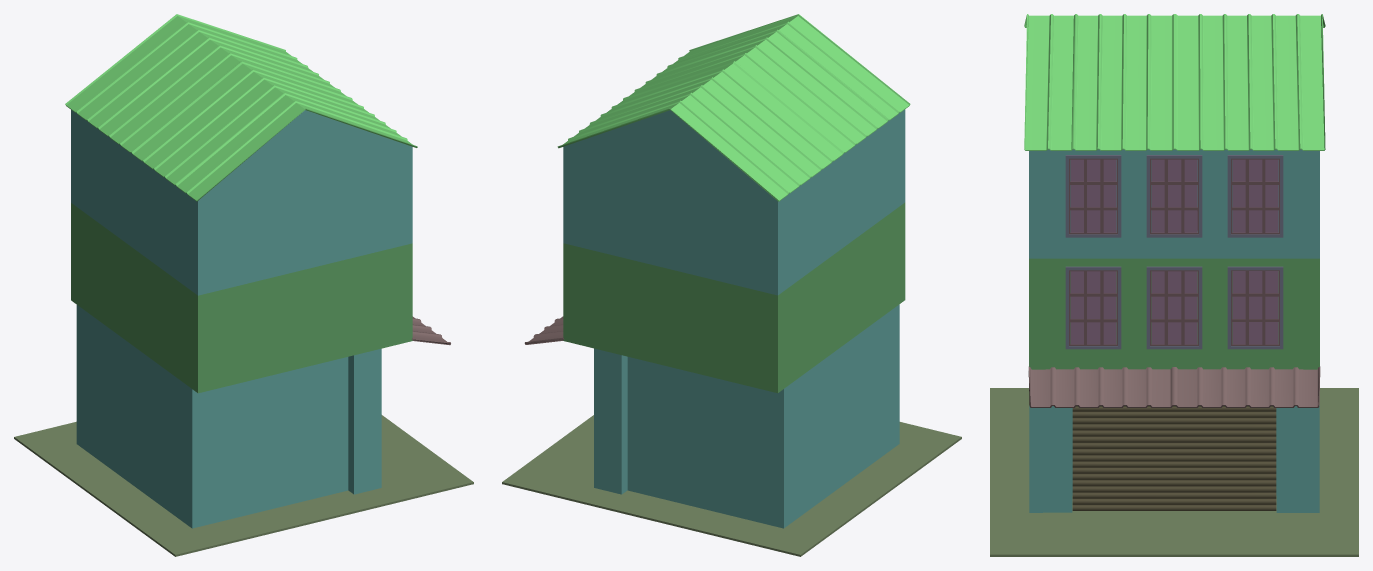
File: house08.fbx
3 renders of one model, left to right at view 1: azimuth 30°, elevation 25°; view 2: azimuth 150°, elevation 25°; view 3: azimuth 270°, elevation 25°, orthographic. The views are drawn at different scales.
Visible parts, largest first — view 1: Wall_01, Wall_03, Wall_02, Roof, Floor, Canopy; view 2: Wall_01, Wall_03, Wall_02, Roof, Floor, Canopy; view 3: Roof, Floor, IronGate01, Wall_02, Wall_03, Canopy, Wall_01, G_2 (×3), G_1 (×3), F_2 (×3), F_1 (×3), W_1 (×3) (+1 smaller).
Boxes of the visible parts, box(x1,y1,x2,y2) form: Wall_01: box(76, 305, 381, 528); Wall_03: box(71, 110, 412, 295); Wall_02: box(71, 203, 412, 393); Roof: box(65, 14, 417, 201); Floor: box(14, 415, 473, 556); Canopy: box(412, 316, 450, 345); Wall_01: box(594, 304, 899, 528); Wall_03: box(563, 109, 905, 295); Wall_02: box(563, 202, 905, 393); Roof: box(557, 14, 910, 201); Floor: box(502, 415, 961, 556); Canopy: box(524, 316, 563, 344); Roof: box(1024, 14, 1325, 150); Floor: box(990, 388, 1358, 556); IronGate01: box(1072, 407, 1276, 510); Wall_02: box(1029, 258, 1319, 369); Wall_03: box(1029, 149, 1319, 258); Canopy: box(1028, 366, 1320, 407); Wall_01: box(1029, 405, 1319, 512); G_2 (×3): box(1070, 159, 1278, 232); G_1 (×3): box(1070, 271, 1278, 344); F_2 (×3): box(1069, 158, 1279, 234); F_1 (×3): box(1069, 270, 1279, 345); W_1 (×3): box(1065, 266, 1283, 349).
Bounding box in the file's own units: 7.8 × 10.01 × 7.3.
